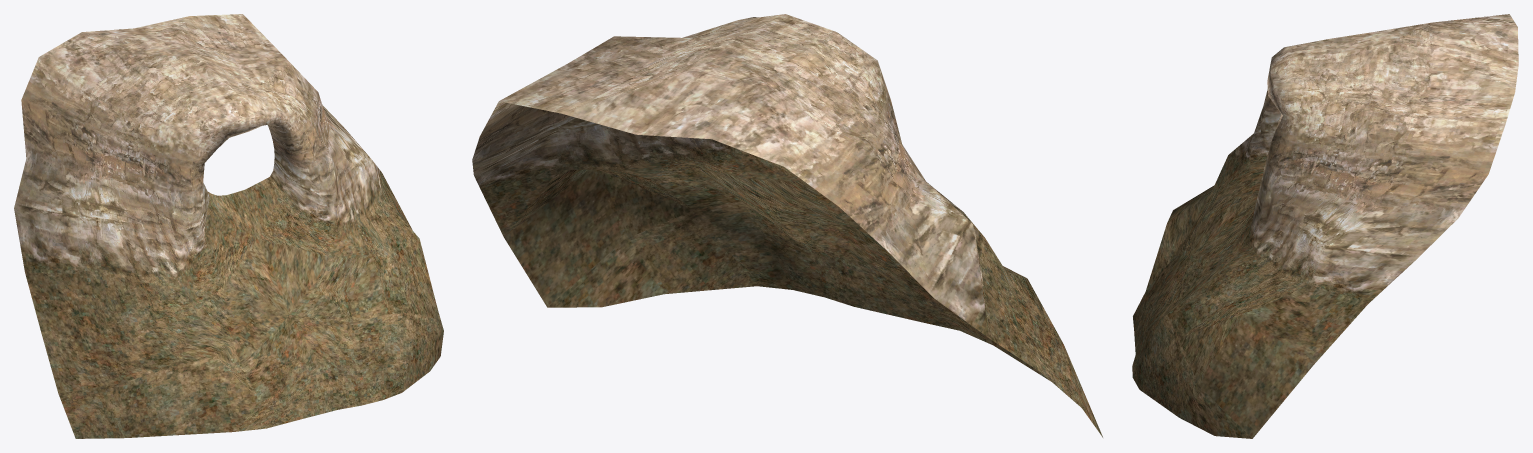
Rendered from thm_all_cave_s03_r0_mesh_l2.fbx.
The picture shows the model from 3 angles, left to right: view 1: azimuth 30°, elevation 25°; view 2: azimuth 150°, elevation 25°; view 3: azimuth 270°, elevation 25°; orthographic projection. The views are drawn at different scales.
Visible parts, largest first — view 1: mesh_node; view 2: mesh_node; view 3: mesh_node.
Part boxes in pixels (box(x1,y1,x2,y2)): mesh_node: box(14, 14, 443, 438); mesh_node: box(472, 14, 1102, 437); mesh_node: box(1132, 14, 1518, 438).
Size of the model in its own units: 48.32 by 34.16 by 39.34.
